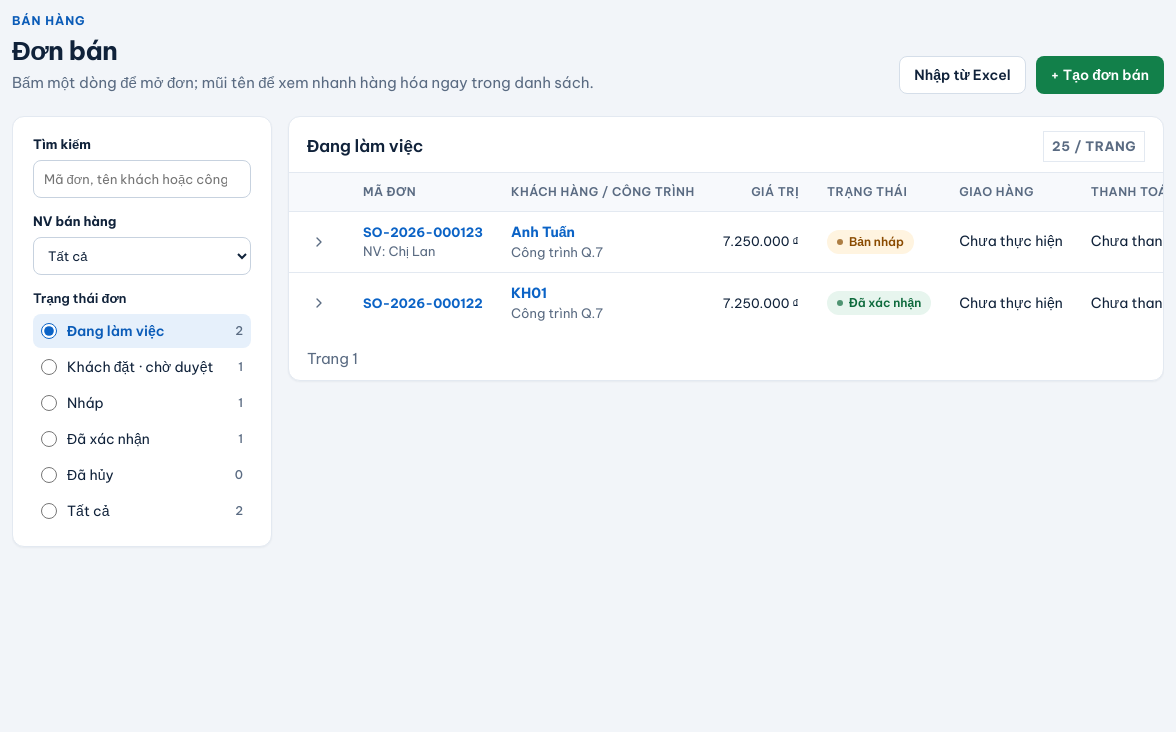
Scenario: filters on the left with counts and opens a summary of the lines under a row (D29)
The width and height of the screenshot is (1176, 732).
Expected: the radio button labelled "Đang làm việc 2" is checked, [41,323,57,339]
Expected: the label "Nháp 1" is shown, [41,394,243,412]
Click the button named "Xem nhanh SO-2026-000123".
click(319, 242)  # box [303,226,335,258]
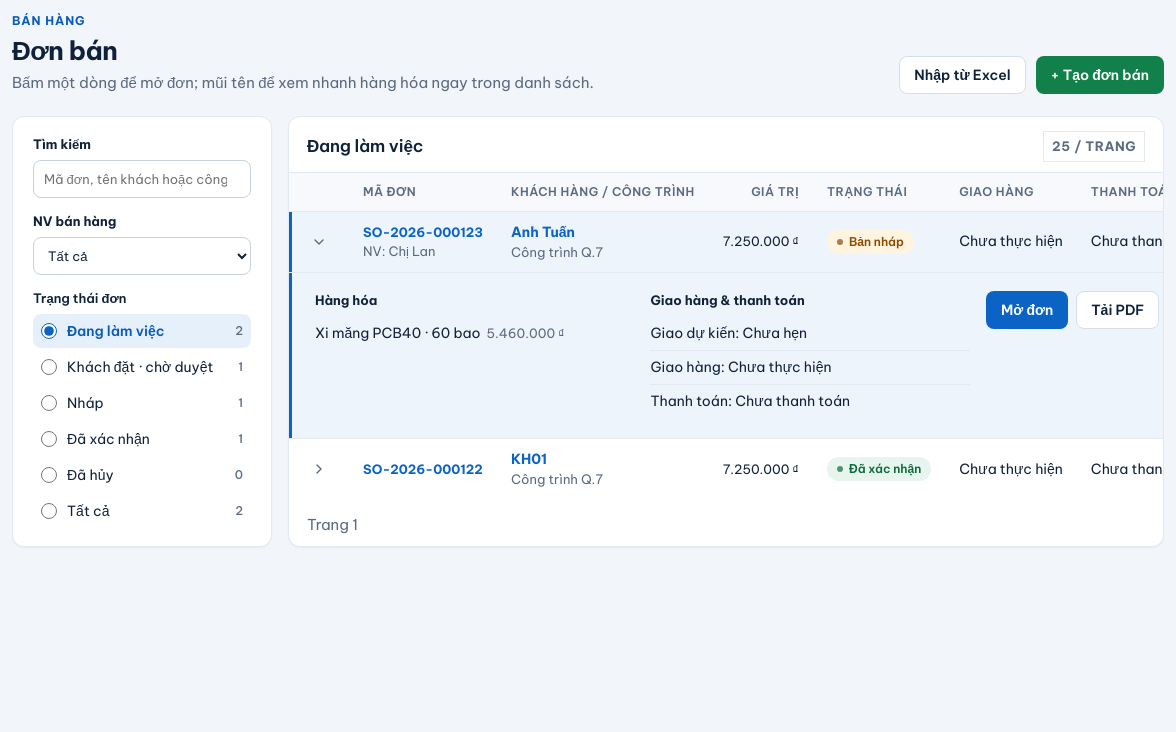
Now the list item "Xi măng PCB40 · 60 bao5.460.000 ₫" is shown, box [315,324,565,342]
